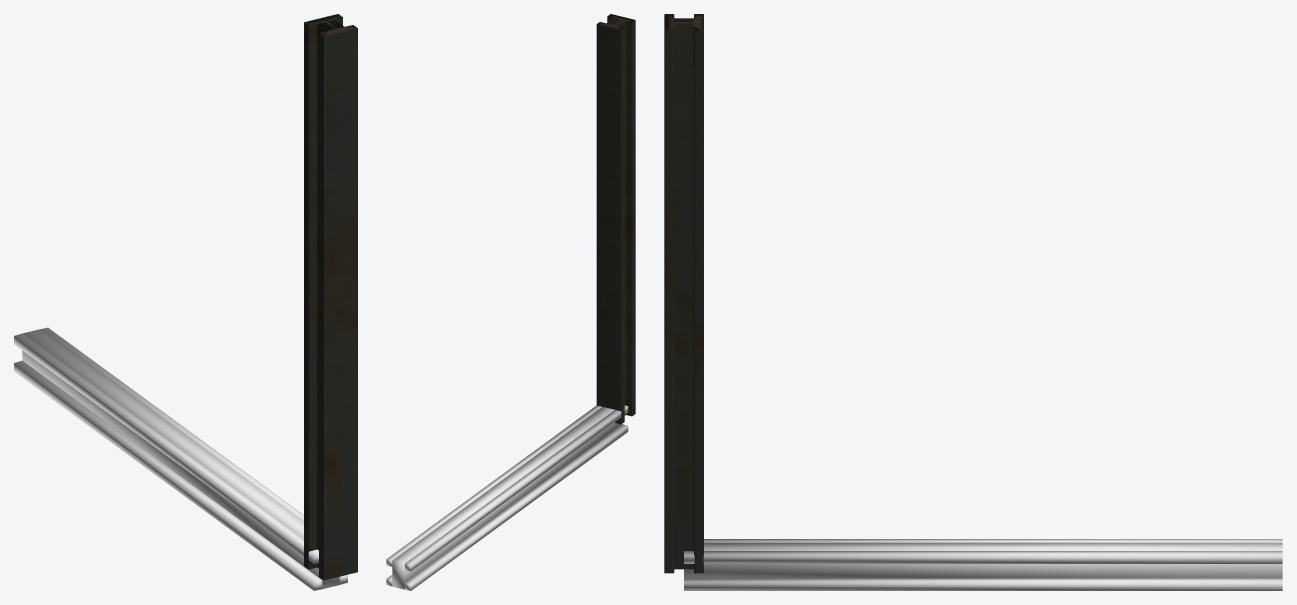
File: SM_Beam_Large_01.fbx
3 views of the same model, side by side, from view 1: azimuth 30°, elevation 25°; view 2: azimuth 150°, elevation 25°; view 3: azimuth 270°, elevation 25° (orthographic). The views are drawn at different scales.
Visible parts, largest first — view 1: SM_Beam_Large_01, SM_Beam_Large_01_ConvexHulls; view 2: SM_Beam_Large_01, SM_Beam_Large_01_ConvexHulls; view 3: SM_Beam_Large_01_ConvexHulls, SM_Beam_Large_01.
Part boxes in pixels (bbox=[...]): SM_Beam_Large_01: bbox=[304, 14, 357, 580]; SM_Beam_Large_01_ConvexHulls: bbox=[14, 327, 347, 590]; SM_Beam_Large_01: bbox=[596, 14, 635, 424]; SM_Beam_Large_01_ConvexHulls: bbox=[386, 405, 628, 590]; SM_Beam_Large_01_ConvexHulls: bbox=[684, 539, 1282, 590]; SM_Beam_Large_01: bbox=[664, 14, 703, 573].
Size of the model in its own units: 0.2 by 3.1 by 3.1.
